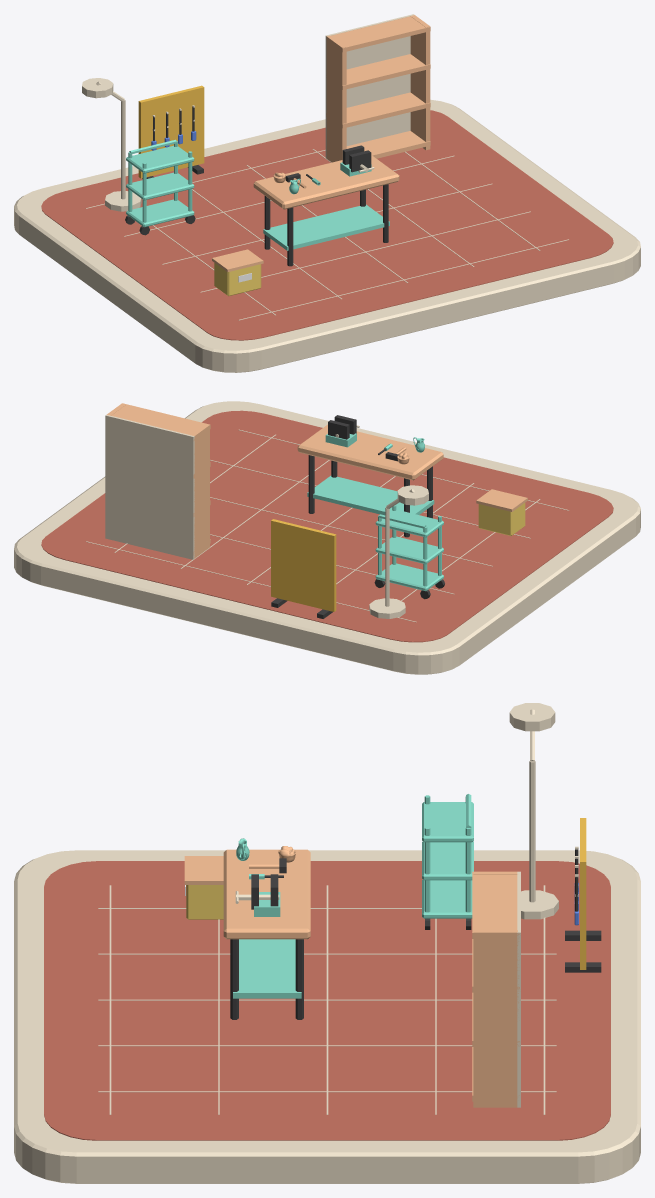
Rendered from room.fbx.
The picture shows the model from 3 angles, top to bottom: view 1: azimuth 30°, elevation 25°; view 2: azimuth 150°, elevation 25°; view 3: azimuth 270°, elevation 25°; orthographic projection. The views are drawn at different scales.
Parts seen in each view (by area): view 1: COM-02 Floor Surface, COM-01 Rounded Base Direct, Back, Panel, Worktop, Lower shelf, Side, Side.001, Shelf.003, Shelf.001, Shelf.002, Shelf (+7 smaller); view 2: COM-02 Floor Surface, COM-01 Rounded Base Direct, Back, Panel, Worktop, Lower shelf, Side, Shelf.003, Box, Tray.001, Tray, Tray.002 (+5 smaller); view 3: COM-02 Floor Surface, COM-01 Rounded Base Direct, Side.001, Worktop, Lower shelf, Shelf.003, Tray.002, Tray.001, Tray, Box, Lid, Lamp head (+11 smaller).
Part boxes in pixels (<box>): COM-02 Floor Surface: <box>41,110,613,340</box>; COM-01 Rounded Base Direct: <box>14,99,640,372</box>; Back: <box>325,14,413,158</box>; Panel: <box>138,85,204,178</box>; Worktop: <box>253,155,399,209</box>; Lower shelf: <box>263,204,389,250</box>; Side: <box>326,35,346,162</box>; Side.001: <box>410,15,430,150</box>; Shelf.003: <box>326,16,430,52</box>; Shelf.001: <box>326,92,430,128</box>; Shelf.002: <box>326,54,430,89</box>; Shelf: <box>326,131,430,161</box>; COM-02 Floor Surface: <box>41,410,613,642</box>; COM-01 Rounded Base Direct: <box>14,401,640,674</box>; Back: <box>105,414,194,559</box>; Panel: <box>271,519,336,611</box>; Worktop: <box>297,424,443,480</box>; Lower shelf: <box>307,475,434,515</box>; Side: <box>190,424,209,558</box>; Shelf.003: <box>111,403,210,440</box>; Box: <box>478,503,525,535</box>; Tray.001: <box>375,536,443,564</box>; Tray: <box>375,563,443,591</box>; Tray.002: <box>375,509,443,537</box>; COM-02 Floor Surface: <box>44,861,610,1140</box>; COM-01 Rounded Base Direct: <box>14,850,640,1183</box>; Side.001: <box>473,929,518,1107</box>; Worktop: <box>223,849,310,939</box>; Lower shelf: <box>233,939,301,998</box>; Shelf.003: <box>472,871,520,938</box>; Tray.002: <box>422,802,473,842</box>; Tray.001: <box>422,841,473,880</box>; Tray: <box>422,880,472,918</box>; Box: <box>186,885,223,919</box>; Lid: <box>184,856,223,884</box>; Lamp head: <box>509,703,555,731</box>.
Size of the model in its own units: 600 by 196 by 520.
